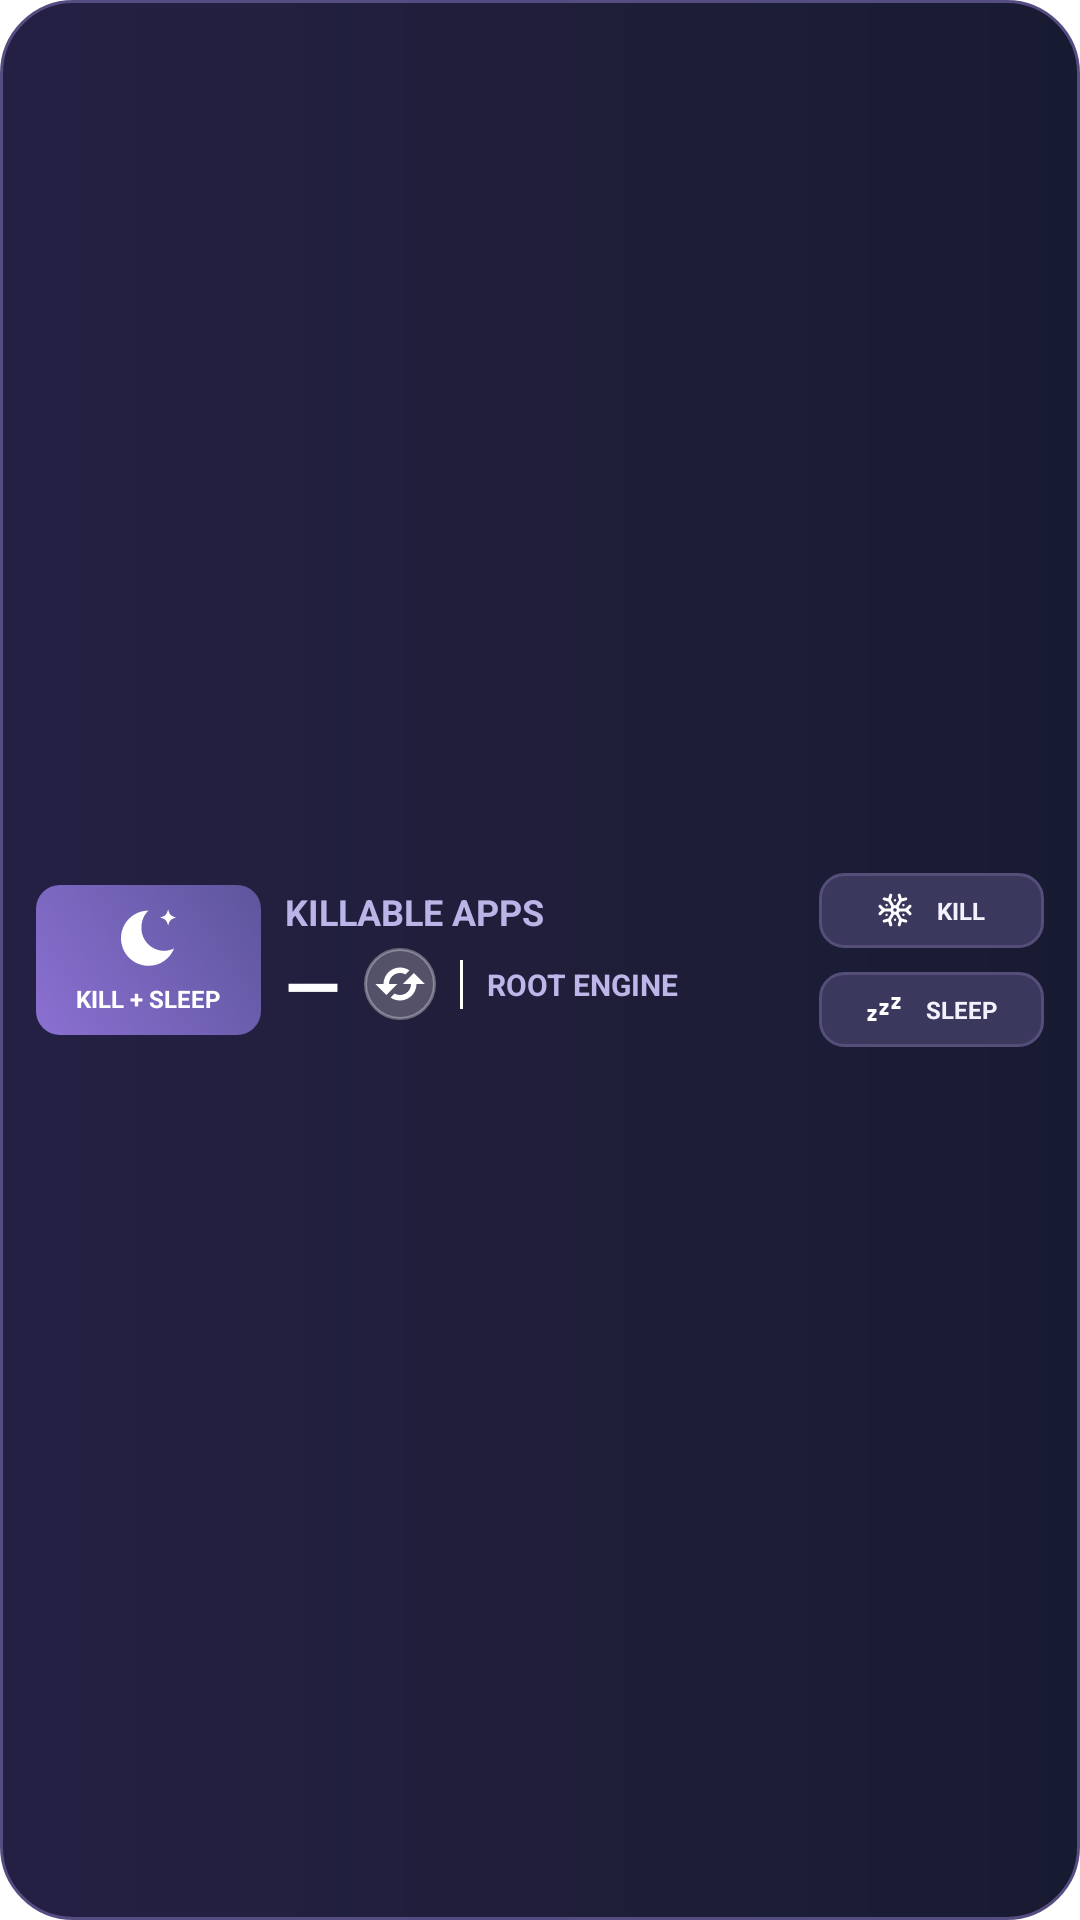

Icon click points for this 1080×1920 phone screenshot, format (x=x, y=y):
snow: (x=895, y=910)
widget refresh: (x=400, y=984)
